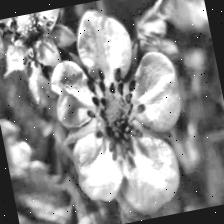Blossom Blight: (76, 60, 154, 162), (0, 9, 66, 73)
